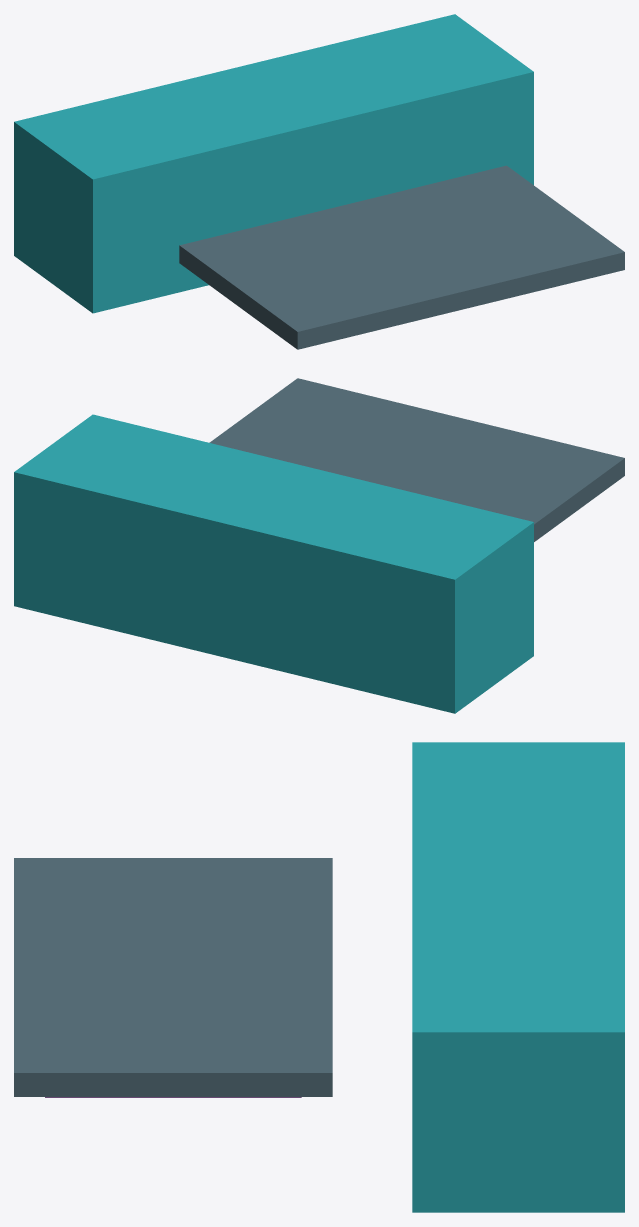
Rendered from entertainment-console-tv.glb.
3 renders of one model, top to bottom at view 1: azimuth 30°, elevation 25°; view 2: azimuth 150°, elevation 25°; view 3: azimuth 270°, elevation 25°, orthographic. The views are drawn at different scales.
Parts seen in each view (by area): view 1: world; view 2: world; view 3: world.
Boxes of the visible parts, x1,y1,x2,y2 form: world: (14,14,624,349); world: (14,378,624,713); world: (14,742,624,1212).
Size of the model in its own units: 1.55 by 0.45 by 1.38.
